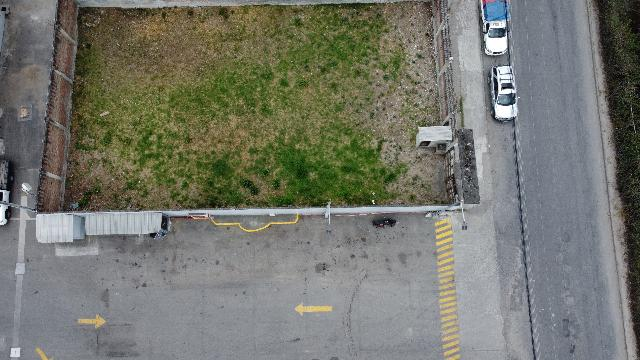Vehiculo: (488, 64, 518, 122), (480, 0, 510, 56)
